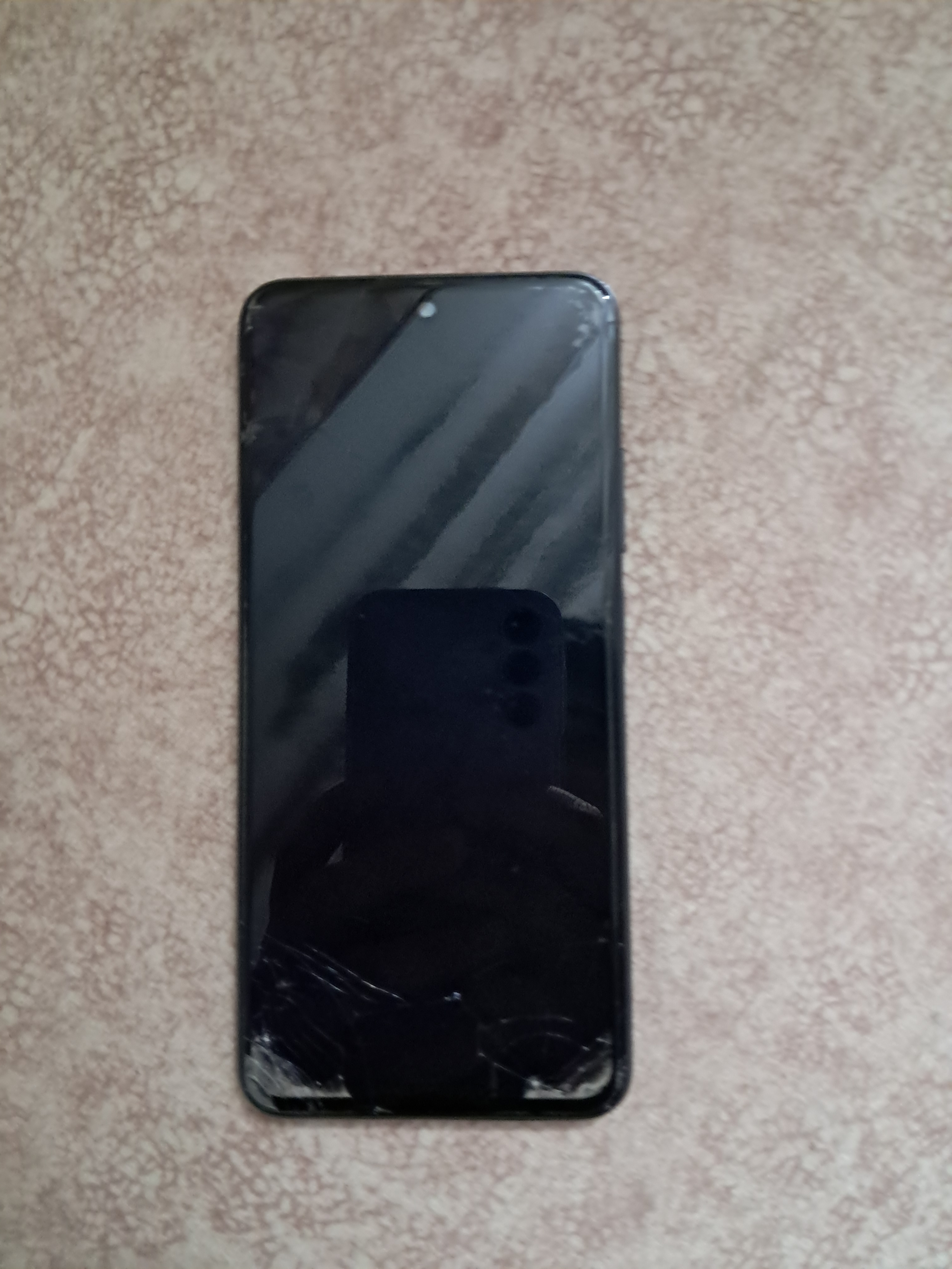phone: (238, 273, 630, 1119)
